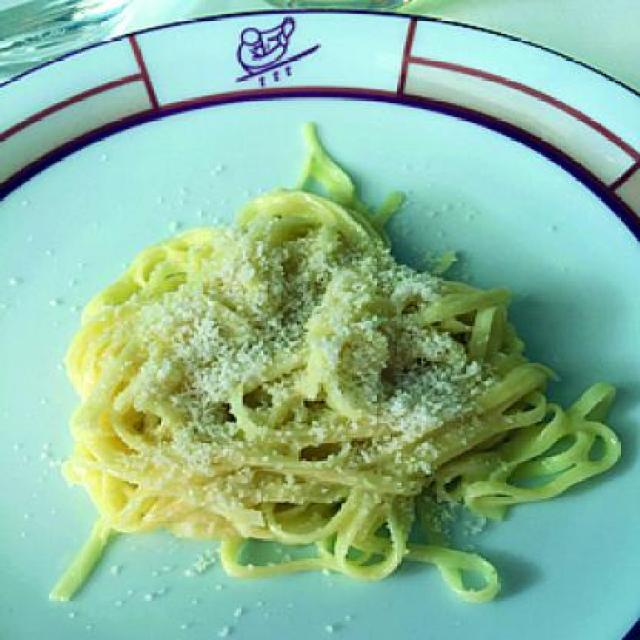Oil pasta: (82, 160, 604, 638)
